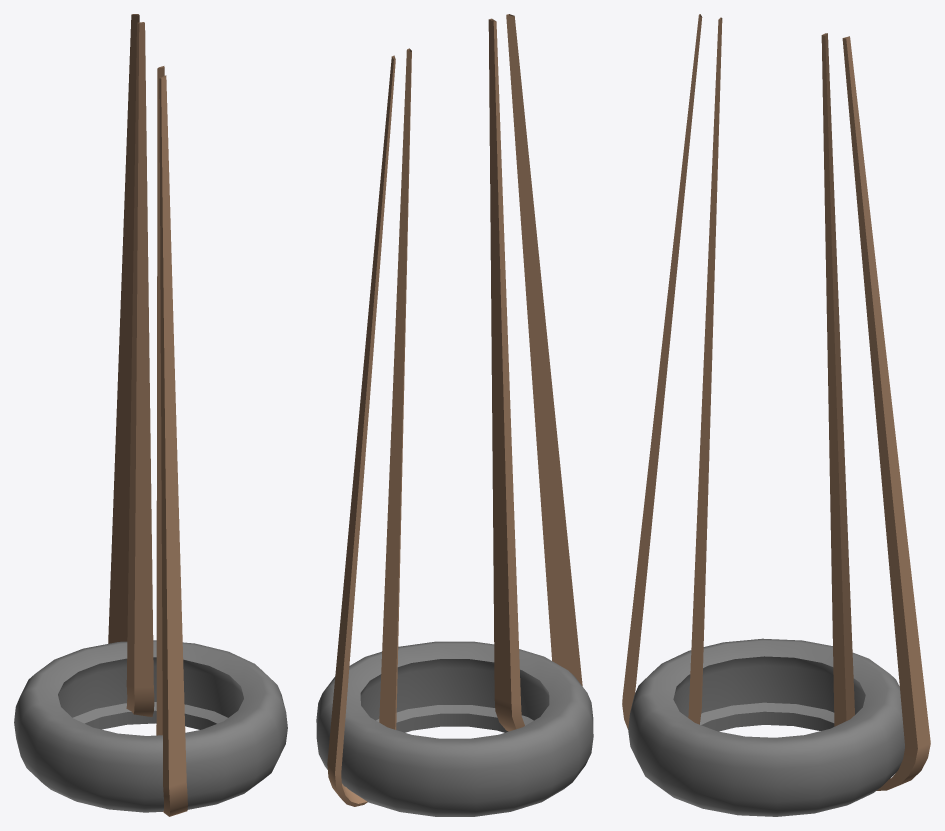
File: SM_Swing5.fbx
The picture shows the model from 3 angles, left to right: view 1: azimuth 30°, elevation 25°; view 2: azimuth 150°, elevation 25°; view 3: azimuth 270°, elevation 25°; orthographic projection. The views are drawn at different scales.
Parts seen in each view (by area): view 1: SM_Swing5; view 2: SM_Swing5; view 3: SM_Swing5.
Boxes of the visible parts, bbox=[...] form: SM_Swing5: bbox=[14, 14, 287, 816]; SM_Swing5: bbox=[316, 14, 593, 816]; SM_Swing5: bbox=[622, 14, 930, 816].
Size of the model in its own units: 124 by 360 by 135.
